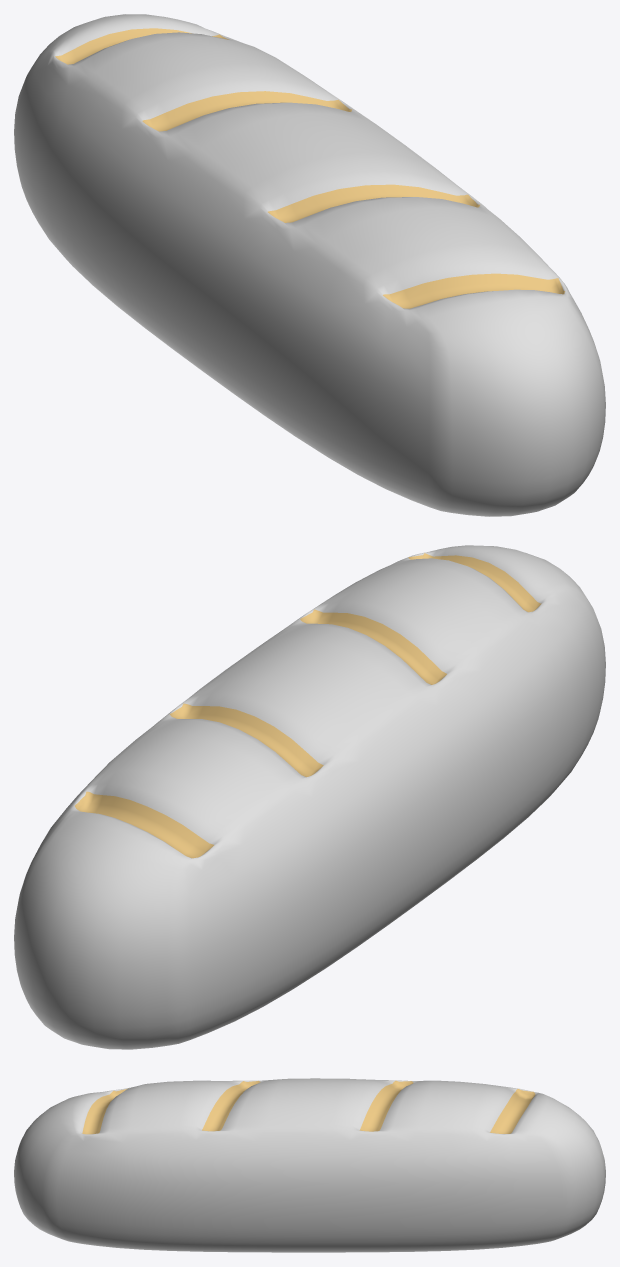
Rendered from baguette.fbx.
3 views of the same model, one above another, from view 1: azimuth 30°, elevation 25°; view 2: azimuth 150°, elevation 25°; view 3: azimuth 270°, elevation 25° (orthographic). The views are drawn at different scales.
Parts seen in each view (by area): view 1: Cube; view 2: Cube; view 3: Cube.
Part boxes in pixels (x1=…): Cube: x1=14, y1=14, x2=605, y2=516; Cube: x1=14, y1=545, x2=605, y2=1049; Cube: x1=14, y1=1078, x2=605, y2=1252.
Bounding box in the file's own units: 214 × 189 × 711.
